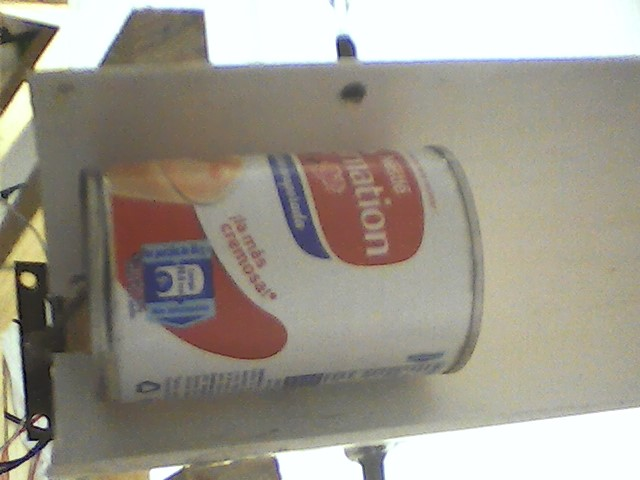lata: (75, 143, 491, 412)
